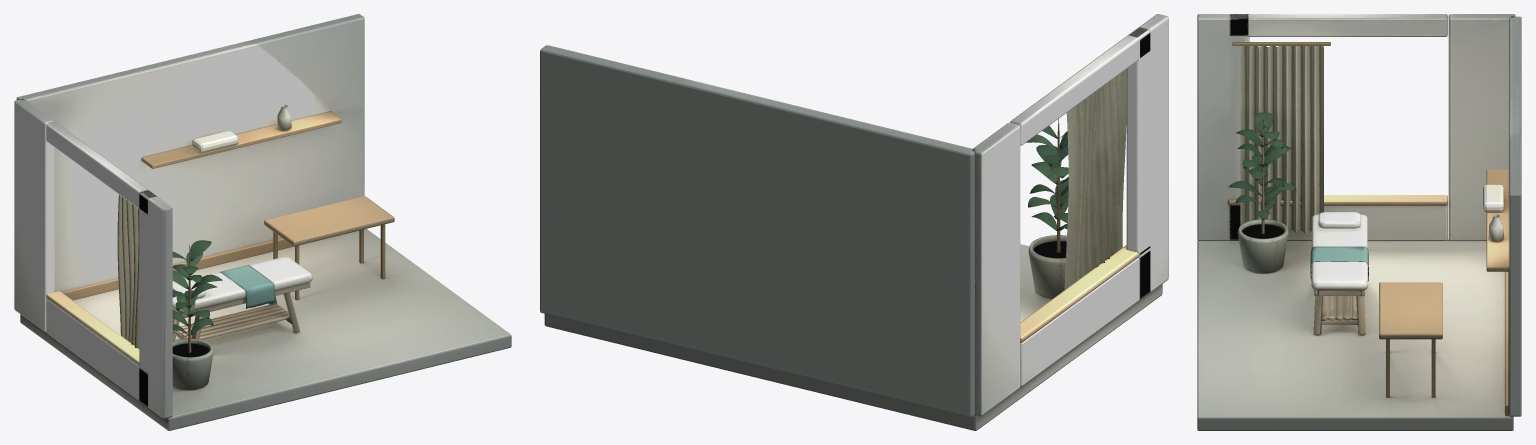
The model's file is sala.medium.glb.
The picture shows the model from 3 angles, left to right: view 1: azimuth 30°, elevation 25°; view 2: azimuth 150°, elevation 25°; view 3: azimuth 270°, elevation 25°; orthographic projection. The views are drawn at different scales.
Visible parts, largest first — view 1: Sala_camilla, Cortina_lino; view 2: Sala_camilla, Cortina_lino; view 3: Sala_camilla, Cortina_lino.
Boxes of the visible parts, box(x1,y1,x2,y2) form: Sala_camilla: box(14, 14, 511, 430); Cortina_lino: box(117, 194, 139, 348); Sala_camilla: box(540, 14, 1168, 430); Cortina_lino: box(1064, 69, 1126, 289); Sala_camilla: box(1197, 14, 1521, 430); Cortina_lino: box(1240, 46, 1323, 233).
Bounding box in the file's own units: 4.87 × 2.98 × 3.69.
1 material, 1 textured.
